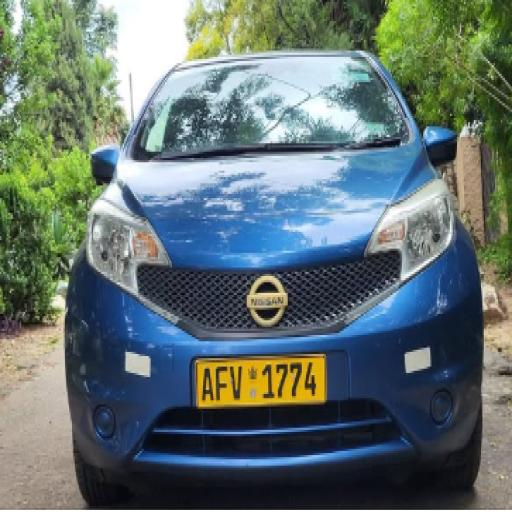number-plates: (194, 354, 326, 403)
